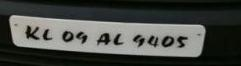0: (160, 35, 175, 50), (61, 29, 75, 44)
4: (147, 34, 160, 48)
5: (176, 35, 189, 50)
9: (74, 29, 90, 45), (131, 33, 145, 49)
A: (95, 31, 111, 48)
K: (25, 25, 42, 42)
L: (112, 33, 126, 48), (41, 27, 54, 42)
